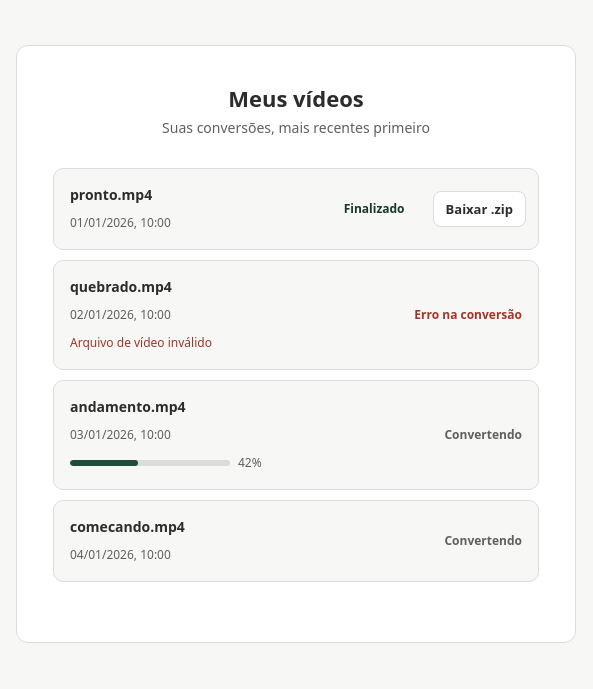
Test: MyVideosPage › shows an error when the download link cannot be generated
Click the button with aria-label "Baixar o .zip de pronto.mp4" at (479, 209), box [432,191,526,227]
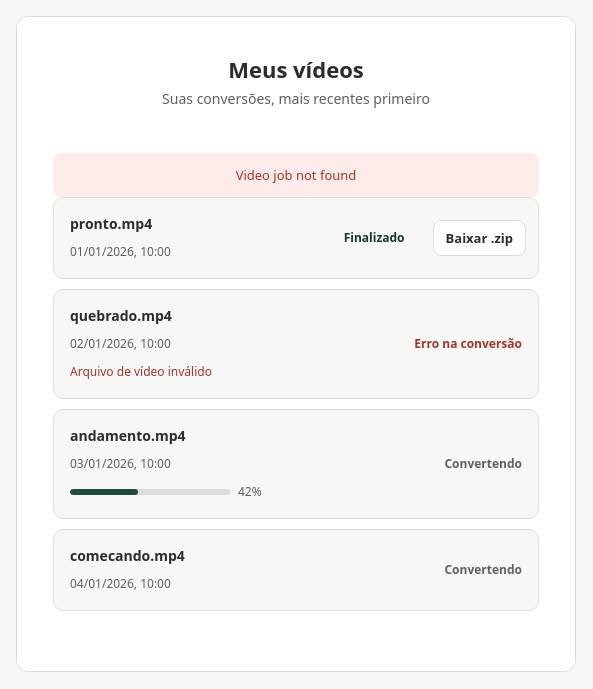
Expected: the text "Video job not found" is shown, [53,153,539,197]
